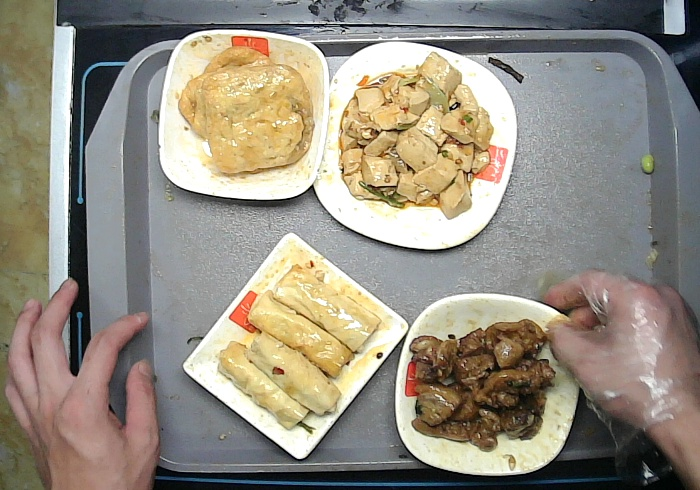SHKJ-Bai_Se_Cai_Die: (394, 292, 584, 477)
SHKJ-Bai_Se_Si_Fang_Cai_Die: (308, 42, 519, 252)
SHKJ-Bai_Se_Xiao_Fang_Die: (157, 28, 330, 201)
SHKJ-Si_Fang_Min: (183, 233, 410, 461)
